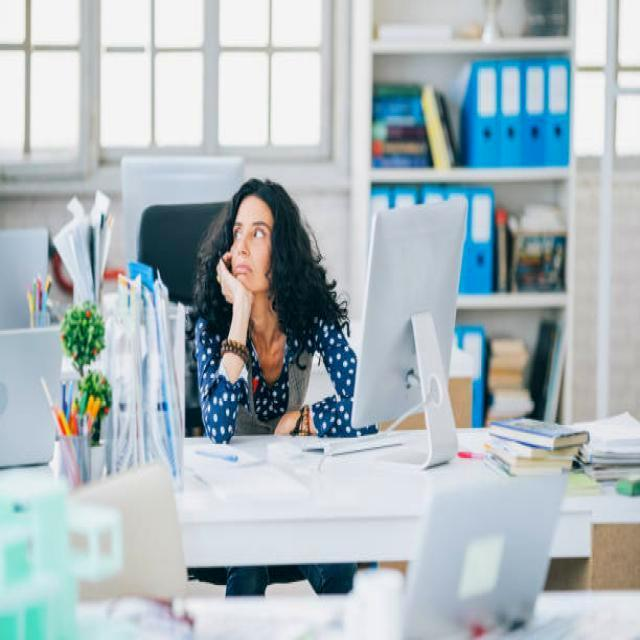Looking away: (232, 196, 277, 290)
